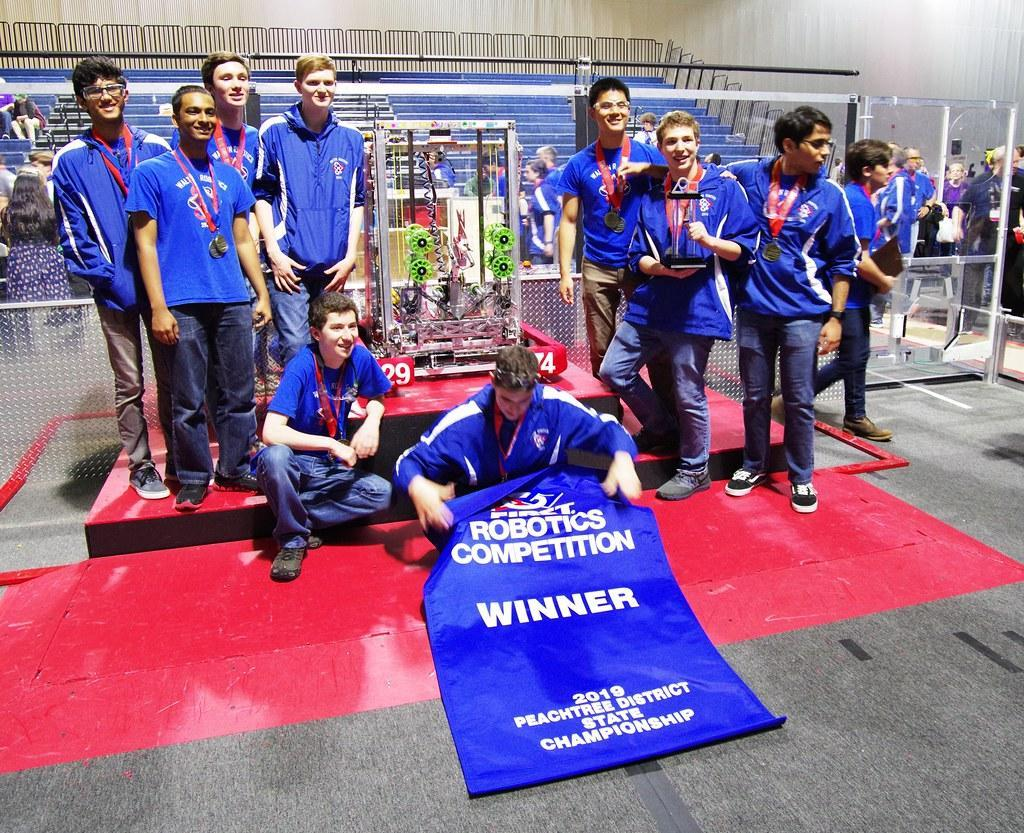robot: (350, 115, 576, 392)
